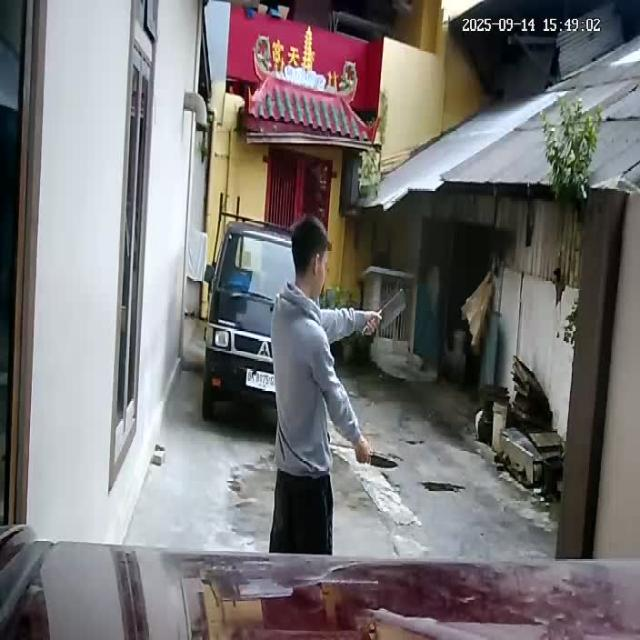senjata_tajam: (375, 286, 410, 332), (369, 452, 400, 470)
